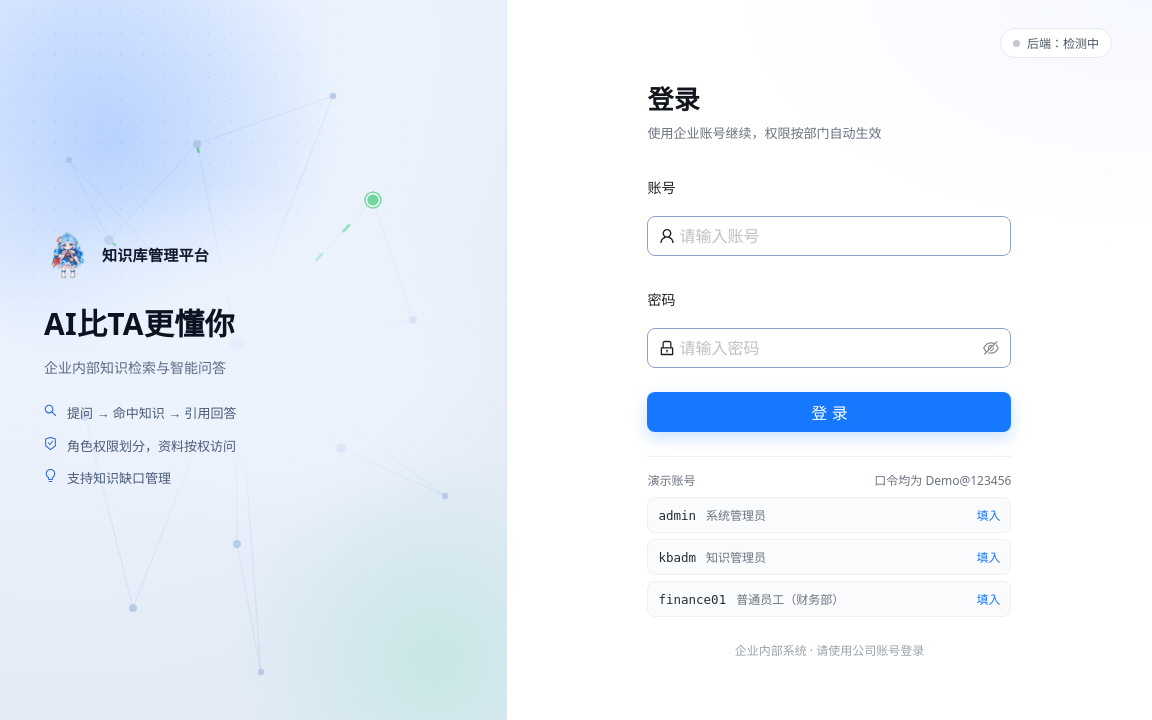
Test: 登录页 › 空表单提交被拦下，不打后端
Step 1. Click the button "登 录" → (829, 412), box x1=647 y1=392 x2=1011 y2=432
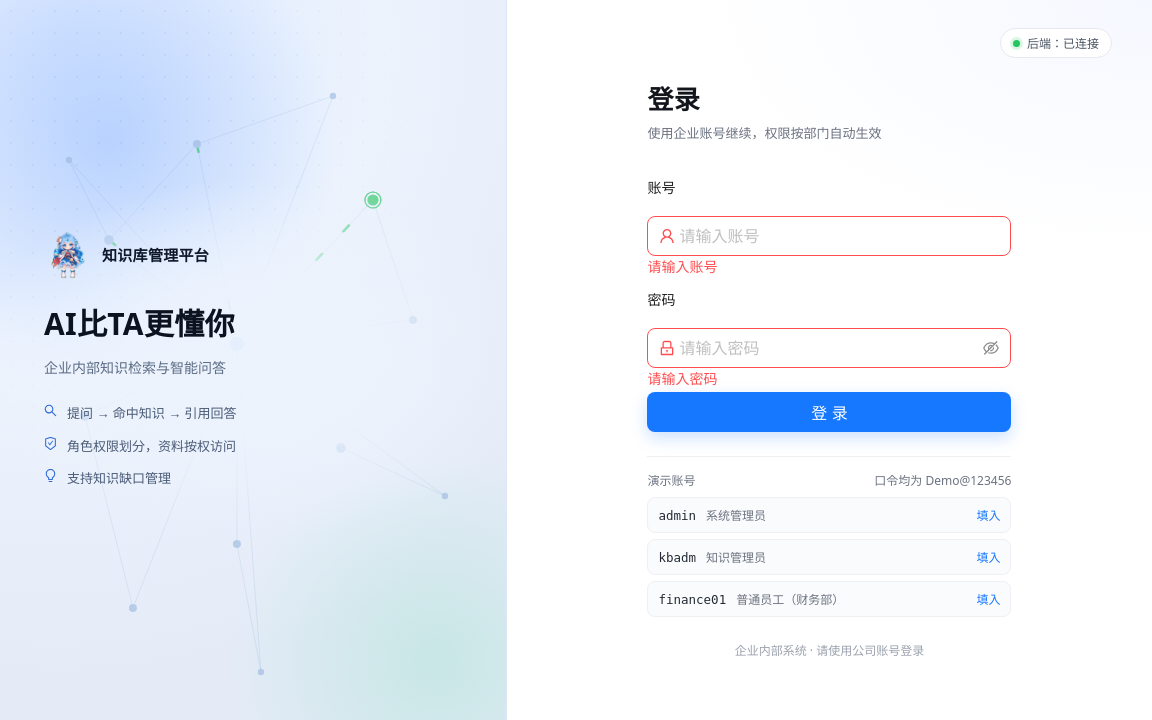
expect the text "请输入账号" is shown: met, box x1=647 y1=258 x2=717 y2=275
expect the text "请输入密码" is shown: met, box x1=647 y1=370 x2=717 y2=387
